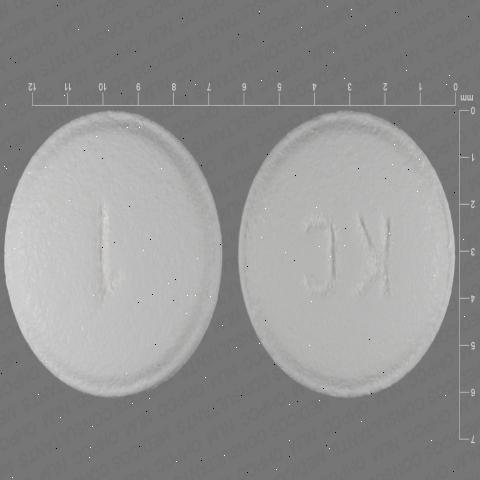Pill: (2, 46, 230, 403), (230, 86, 468, 405)
